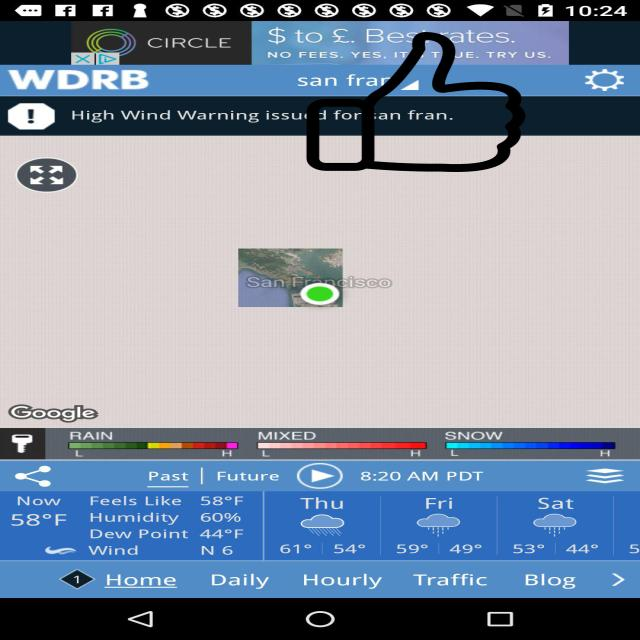privacy zuckering: (304, 32, 528, 172)
